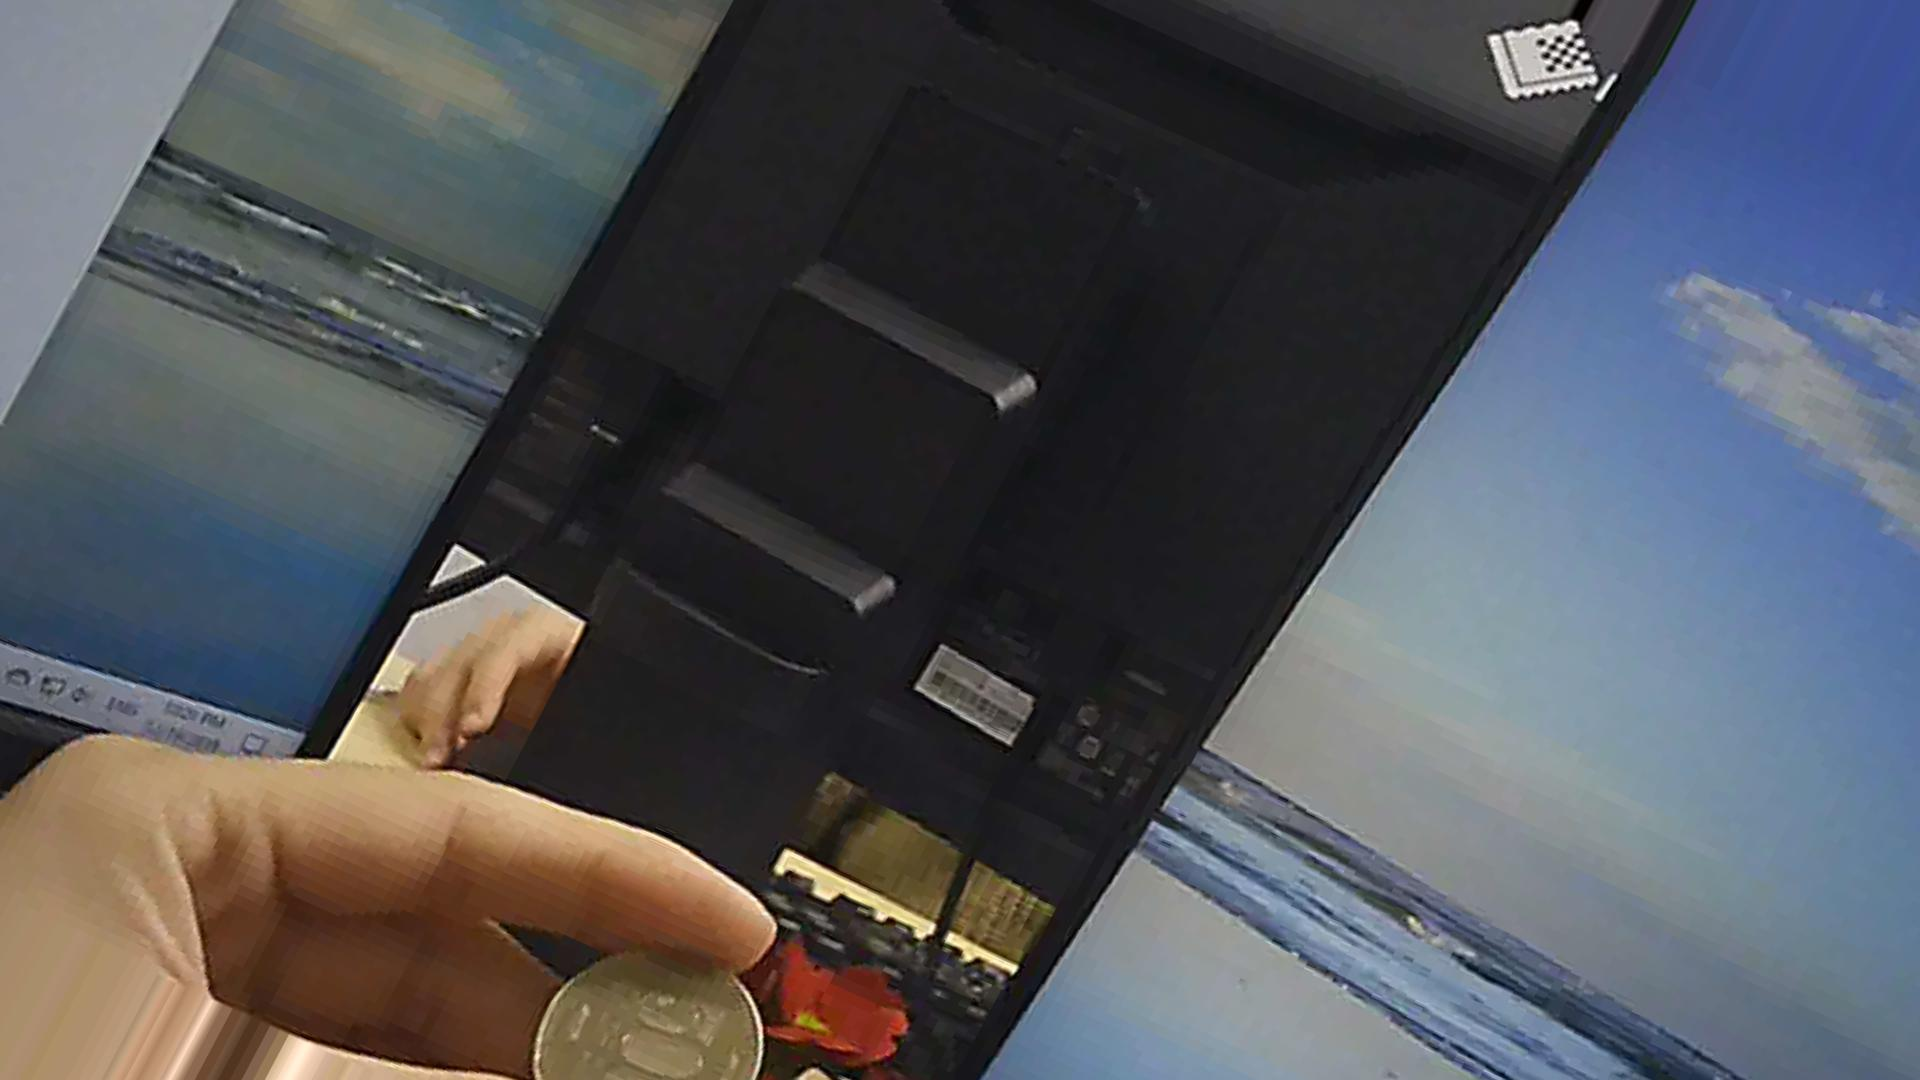500 Yen: (502, 928, 769, 1079)
